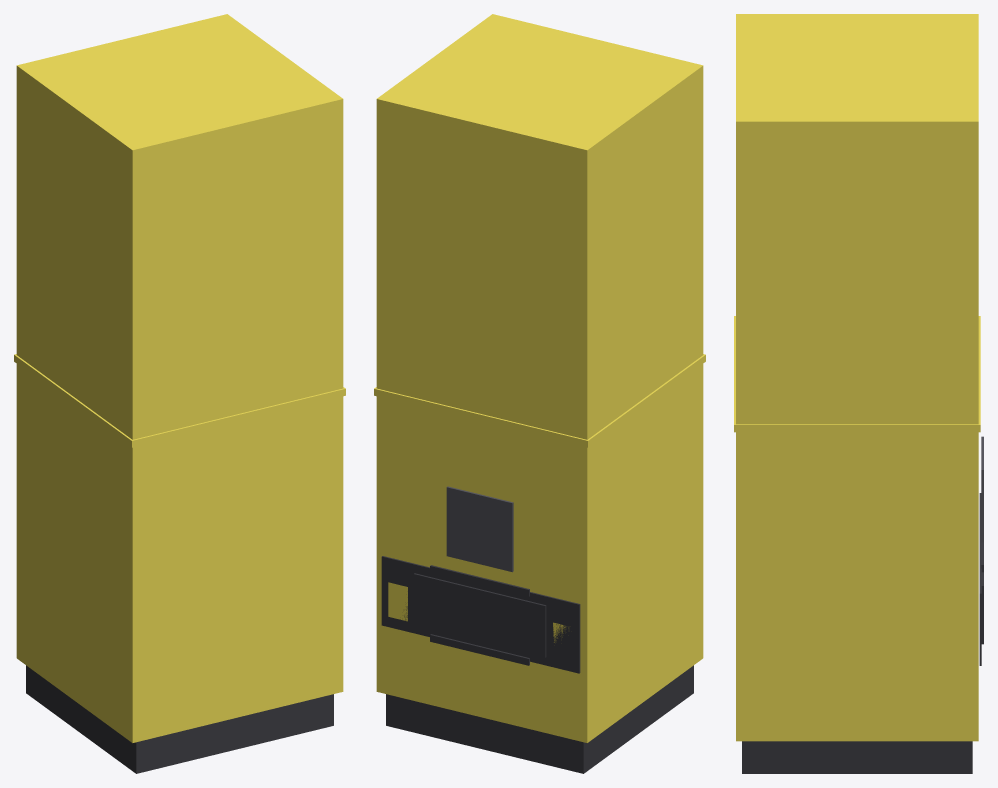
The model's file is cabinet.gltf.
3 views of the same model, side by side, from view 1: azimuth 30°, elevation 25°; view 2: azimuth 150°, elevation 25°; view 3: azimuth 270°, elevation 25° (orthographic). The views are drawn at different scales.
Parts seen in each view (by area): view 1: cabinet; view 2: cabinet; view 3: cabinet.
Boxes of the visible parts, bbox=[...] form: cabinet: bbox=[14, 14, 345, 773]; cabinet: bbox=[374, 14, 705, 773]; cabinet: bbox=[734, 14, 983, 773].
Size of the model in its own units: 0.65 by 1.82 by 0.628.
